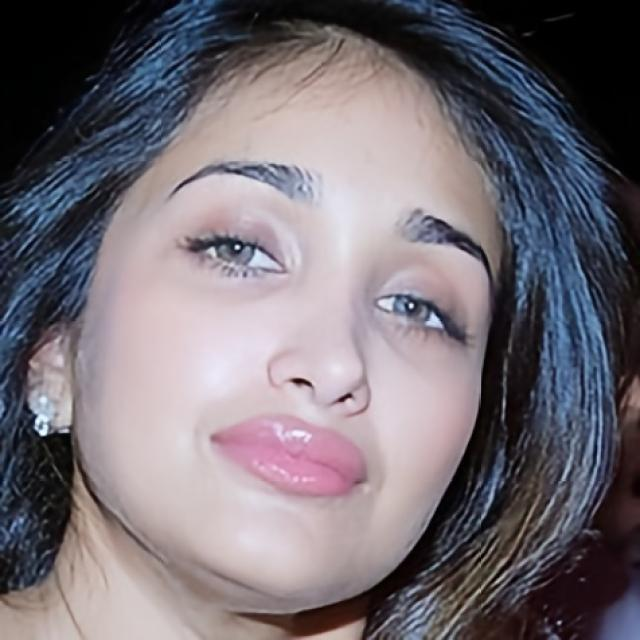content: (77, 27, 504, 609)
